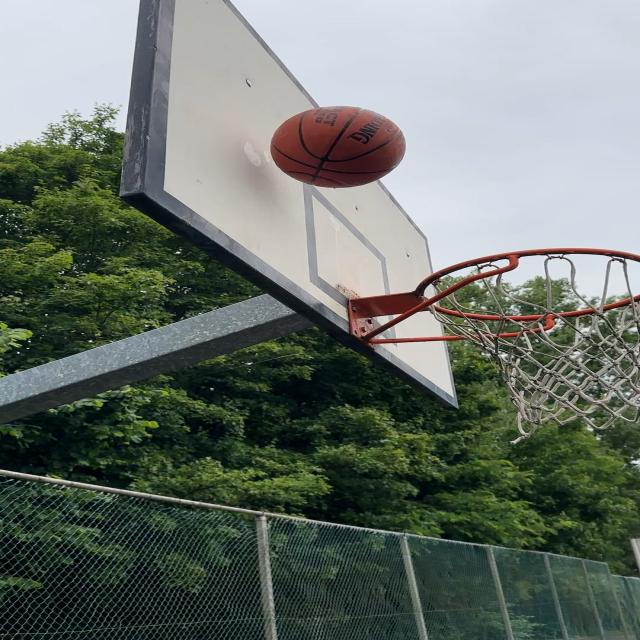Basketball: (273, 105, 408, 190)
